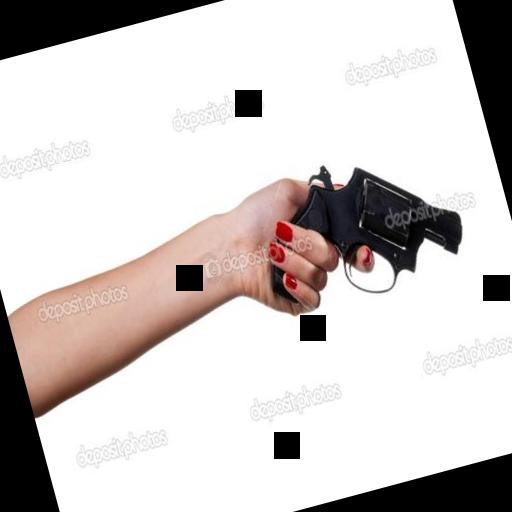Handgun: (242, 133, 474, 335)
